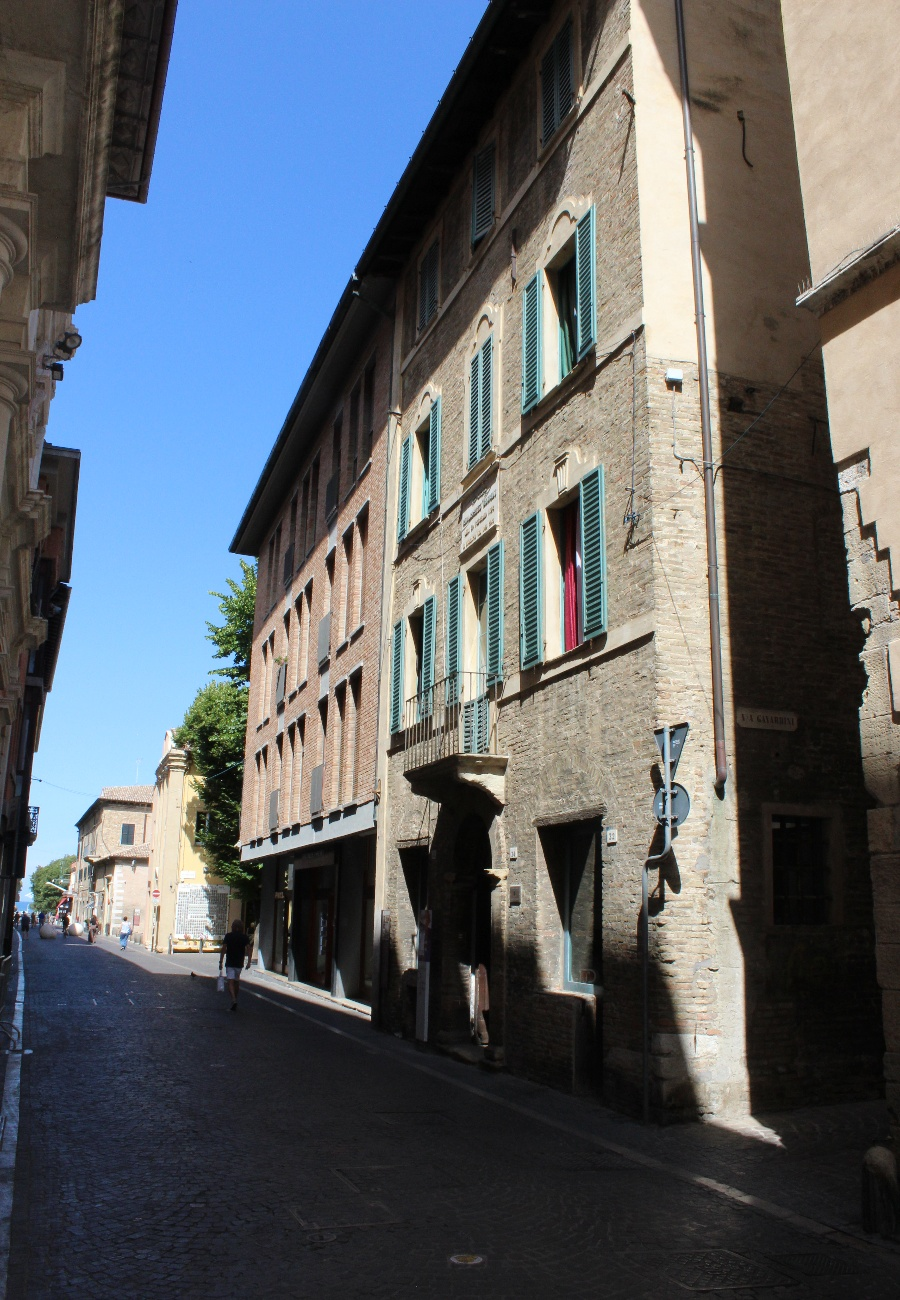Casa Rossini: (356, 7, 716, 1122)
